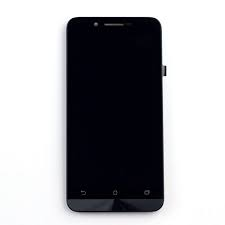asus: (61, 11, 166, 215)
